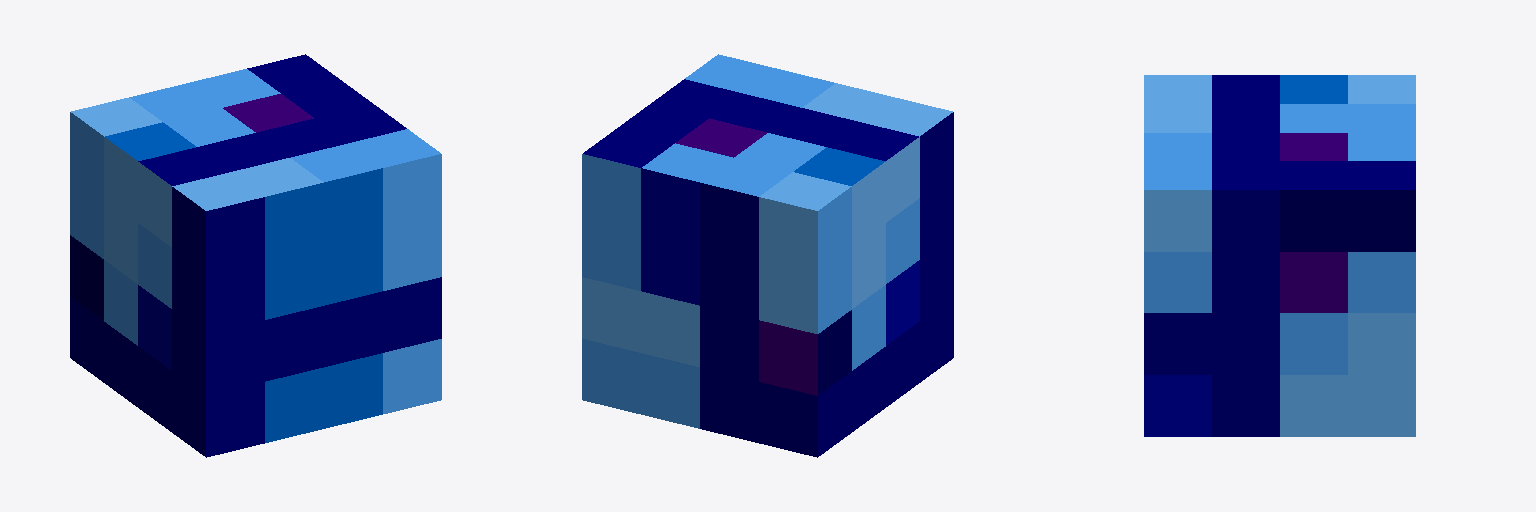
3 renders of one model, left to right at view 1: azimuth 30°, elevation 25°; view 2: azimuth 150°, elevation 25°; view 3: azimuth 270°, elevation 25°, orthographic.
Parts seen in each view (by area): view 1: Cube.001; view 2: Cube.001; view 3: Cube.001.
Boxes of the visible parts, <box> form: Cube.001: <box>70,54,441,457</box>; Cube.001: <box>582,54,953,457</box>; Cube.001: <box>1144,75,1415,436</box>.
Bounding box in the file's own units: 2 × 2 × 2.
1 materials, 1 textured.